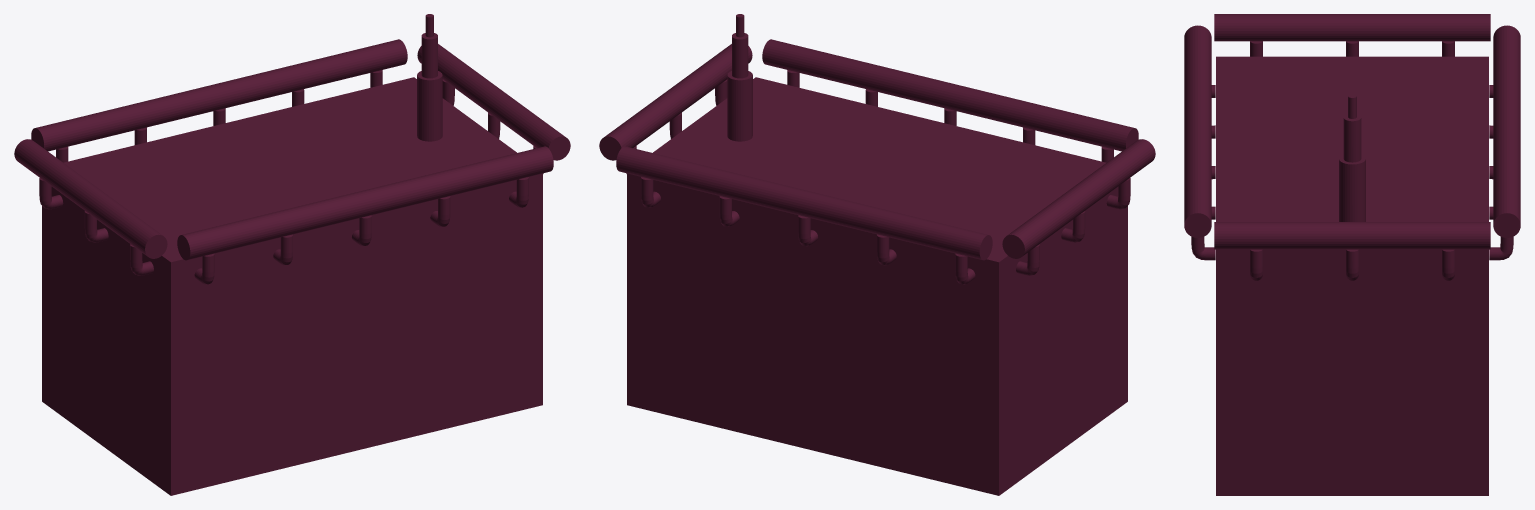
File: Chassi_sem_roda.dae
3 renders of one model, left to right at view 1: azimuth 30°, elevation 25°; view 2: azimuth 150°, elevation 25°; view 3: azimuth 270°, elevation 25°, orthographic. The views are drawn at different scales.
Visible parts, largest first — view 1: Cube; view 2: Cube; view 3: Cube.
Part boxes in pixels (x1,y1,x2,y2): Cube: [14, 14, 570, 495]; Cube: [599, 14, 1155, 495]; Cube: [1184, 14, 1520, 495].
Bounding box in the file's own units: 0.5718 × 0.3703 × 0.458.
